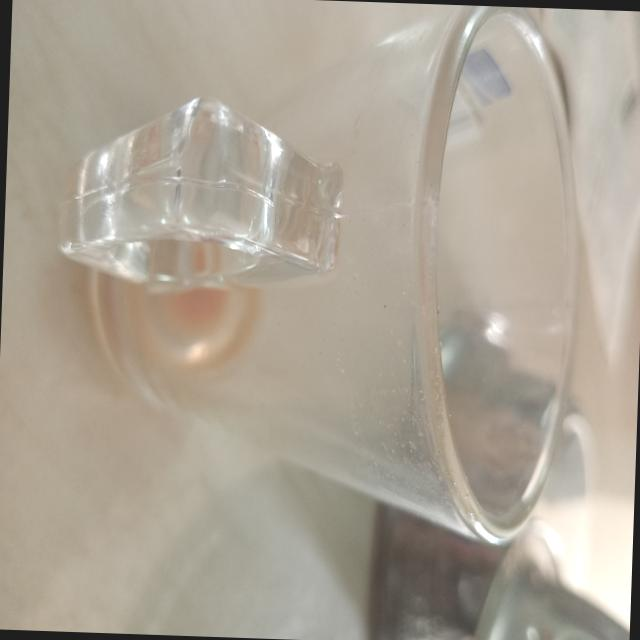glass-VX4N: (47, 0, 596, 551)
